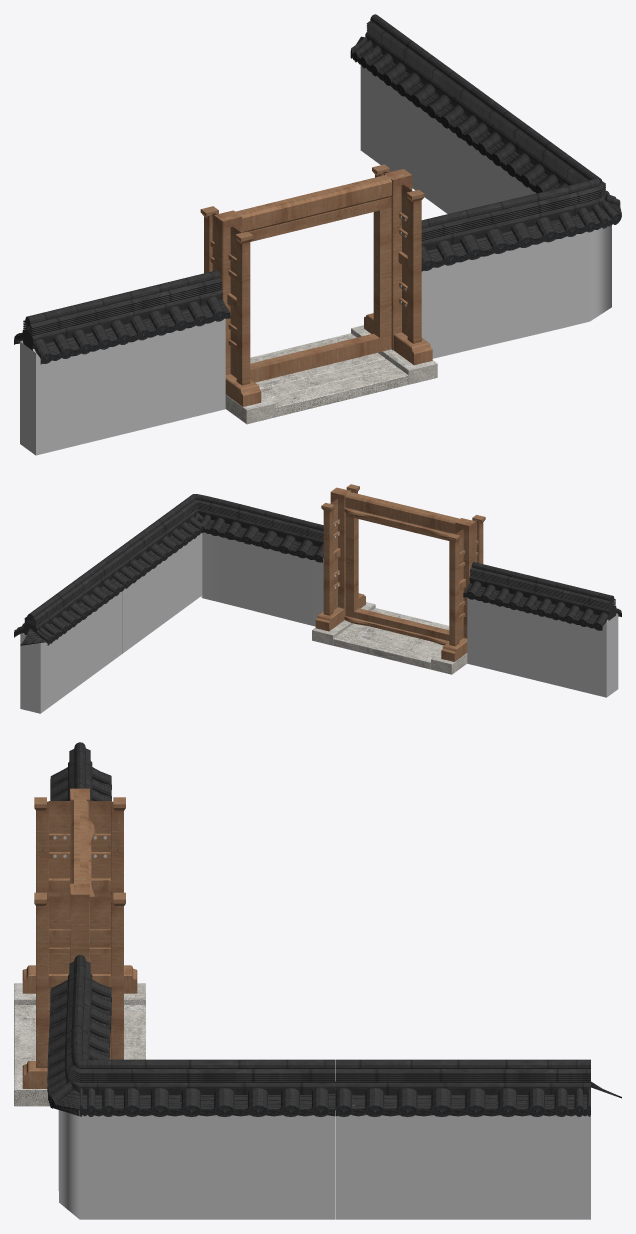
File: SM_JSH_HG_StoneWallH_Splines_21.fbx
The picture shows the model from 3 angles, top to bottom: view 1: azimuth 30°, elevation 25°; view 2: azimuth 150°, elevation 25°; view 3: azimuth 270°, elevation 25°; orthographic projection. The views are drawn at different scales.
Parts seen in each view (by area): view 1: SM_JSH_HG_StoneWallH_Splines_21; view 2: SM_JSH_HG_StoneWallH_Splines_21; view 3: SM_JSH_HG_StoneWallH_Splines_21.
Part boxes in pixels (box(x1,y1,x2,y2)): SM_JSH_HG_StoneWallH_Splines_21: box(14, 14, 621, 455); SM_JSH_HG_StoneWallH_Splines_21: box(14, 484, 621, 713); SM_JSH_HG_StoneWallH_Splines_21: box(14, 742, 621, 1219).
Size of the model in its own units: 833 by 647 by 248.
